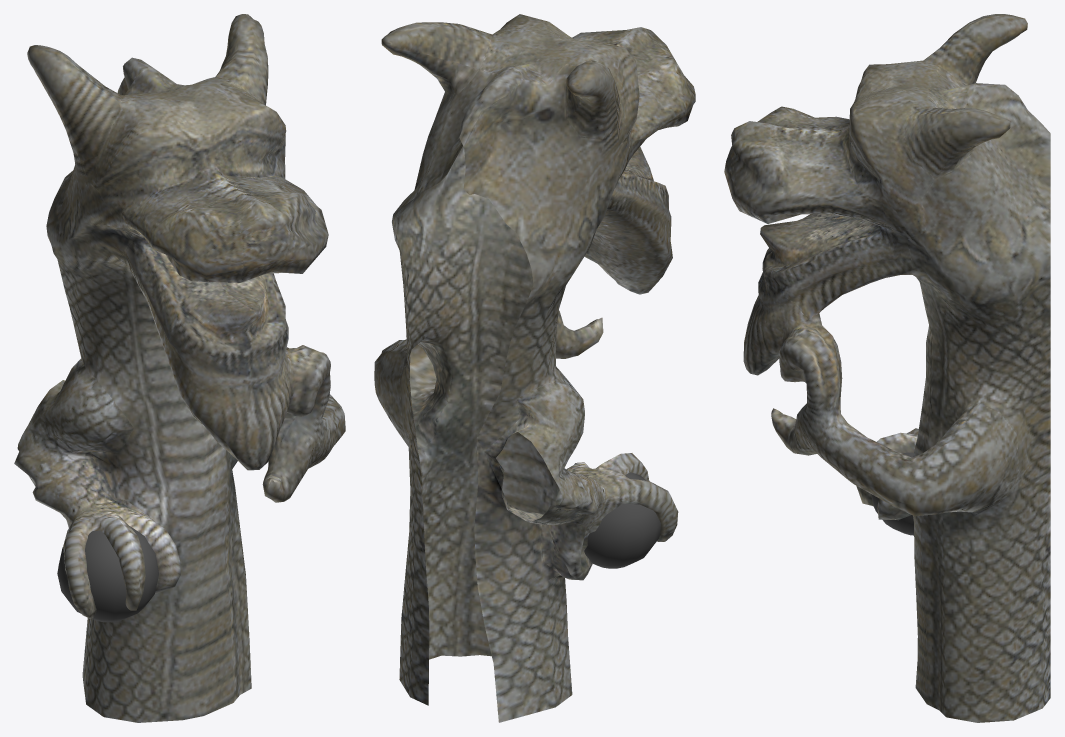
Rendered from DragonSculpture.FBX.
3 renders of one model, left to right at view 1: azimuth 30°, elevation 25°; view 2: azimuth 150°, elevation 25°; view 3: azimuth 270°, elevation 25°, orthographic. The views are drawn at different scales.
Visible parts, largest first — view 1: DragonSculpture, Ball; view 2: DragonSculpture, Ball; view 3: DragonSculpture, Ball.
Boxes of the visible parts, x1,y1,x2,y2 form: DragonSculpture: [14, 14, 345, 722]; Ball: [57, 526, 158, 622]; DragonSculpture: [374, 14, 695, 722]; Ball: [584, 472, 660, 568]; DragonSculpture: [724, 14, 1050, 722]; Ball: [871, 452, 913, 535].
Size of the model in its own units: 57.93 by 60.93 by 128.
